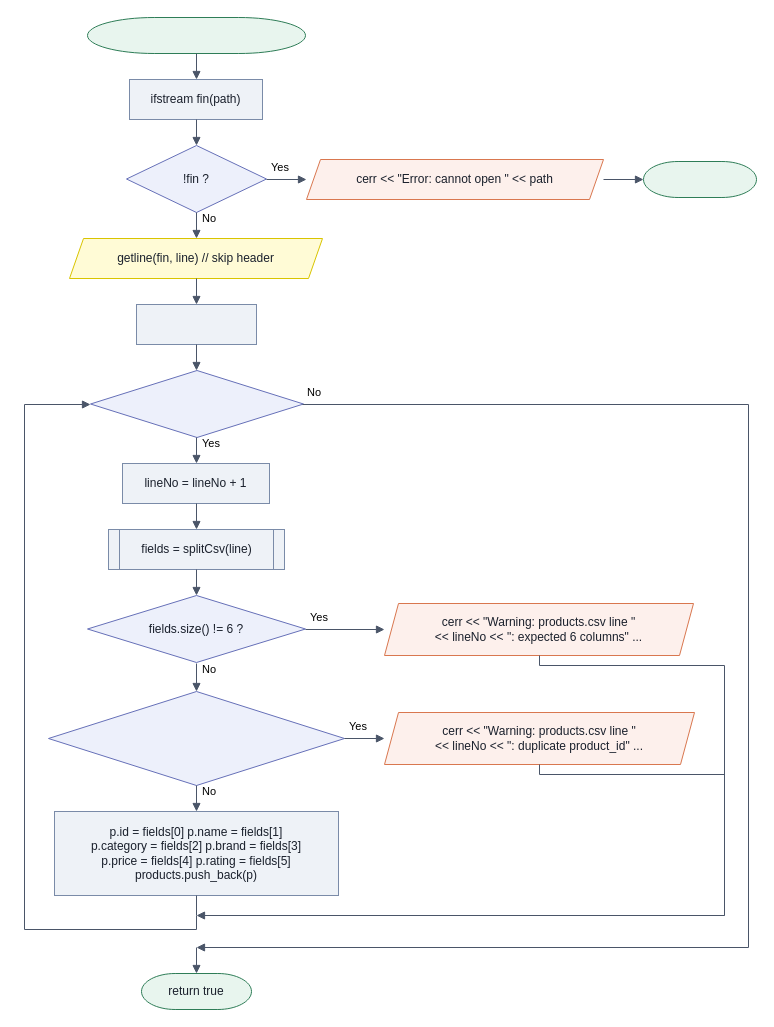
This 774x1027 diagram has some shape labels left out. The centre of each missing label's shape, as x and y in pixels:
containsProduct(products, fields[0]) ?: point (196, 738)
getline(fin, line) ?: point (197, 404)
lineNo = 1: point (196, 324)
loadProducts(path, products): point (196, 35)
return false: point (699, 179)
